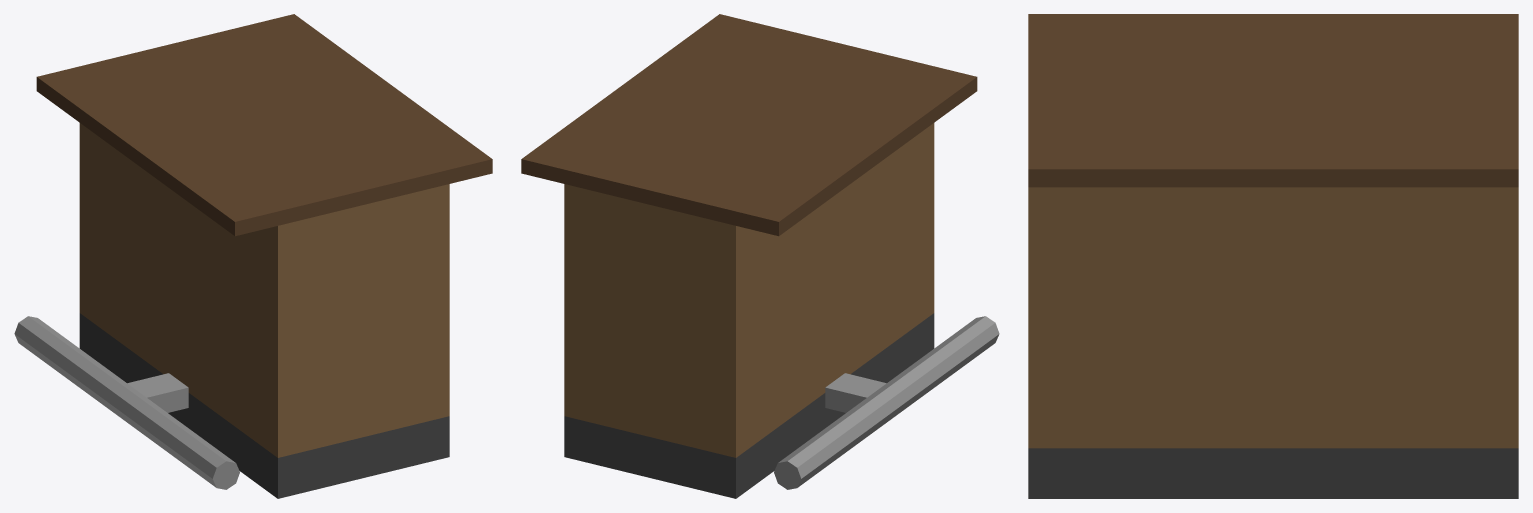
File: Bar Counter Top.fbx
3 renders of one model, left to right at view 1: azimuth 30°, elevation 25°; view 2: azimuth 150°, elevation 25°; view 3: azimuth 270°, elevation 25°, orthographic. The views are drawn at different scales.
Visible parts, largest first — view 1: Bar Counter Top, Bar Counter Pole; view 2: Bar Counter Top, Bar Counter Pole; view 3: Bar Counter Top.
Part boxes in pixels (x1=…): Bar Counter Top: x1=36, y1=14, x2=492, y2=498; Bar Counter Pole: x1=14, y1=316, x2=239, y2=489; Bar Counter Top: x1=521, y1=14, x2=977, y2=498; Bar Counter Pole: x1=774, y1=316, x2=999, y2=489; Bar Counter Top: x1=1028, y1=14, x2=1518, y2=498.
Size of the model in its own units: 815 by 800 by 1000.
